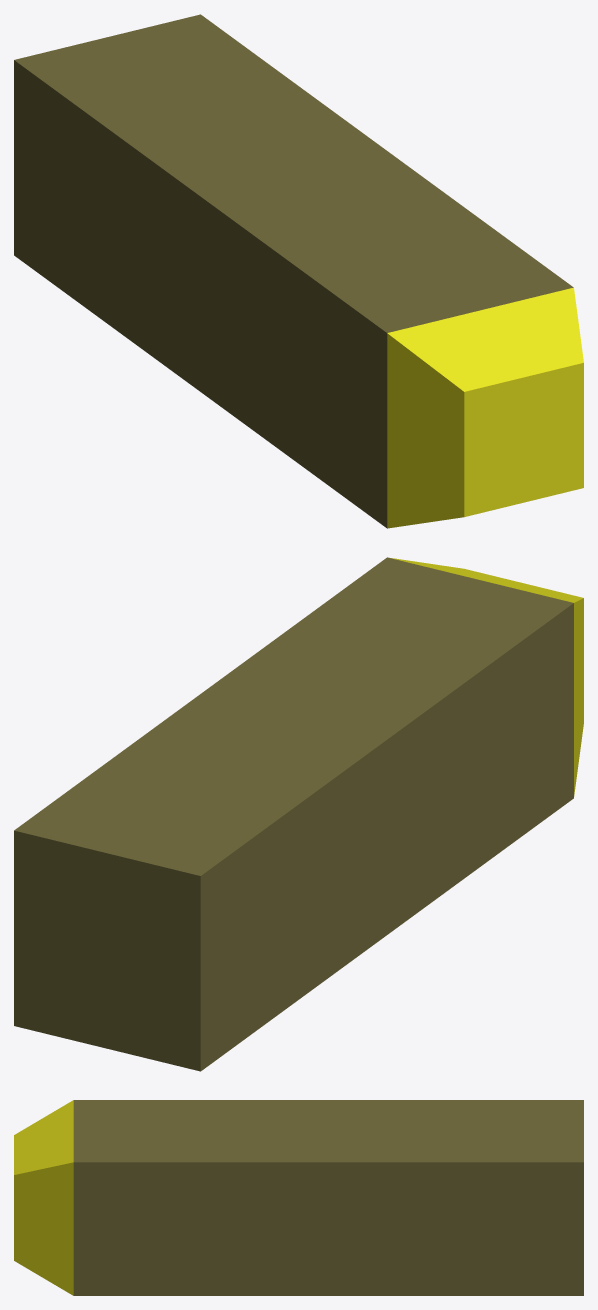
The model's file is bullet.fbx.
3 views of the same model, one above another, from view 1: azimuth 30°, elevation 25°; view 2: azimuth 150°, elevation 25°; view 3: azimuth 270°, elevation 25° (orthographic). The views are drawn at different scales.
Visible parts, largest first — view 1: Bullet; view 2: Bullet; view 3: Bullet.
Part boxes in pixels (x1,y1,x2,y2): Bullet: [14, 14, 583, 528]; Bullet: [14, 557, 583, 1071]; Bullet: [14, 1100, 583, 1295].
Bounding box in the file's own units: 20 × 20 × 77.3.
